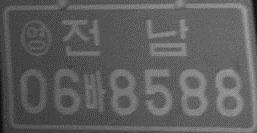0: (18, 67, 48, 116)
5: (143, 67, 173, 117)
6: (52, 67, 82, 116)
8: (214, 67, 245, 118), (177, 68, 209, 117), (107, 68, 138, 116)
바: (83, 70, 106, 113)
영: (18, 19, 52, 58)
전남_D: (60, 18, 189, 59)
